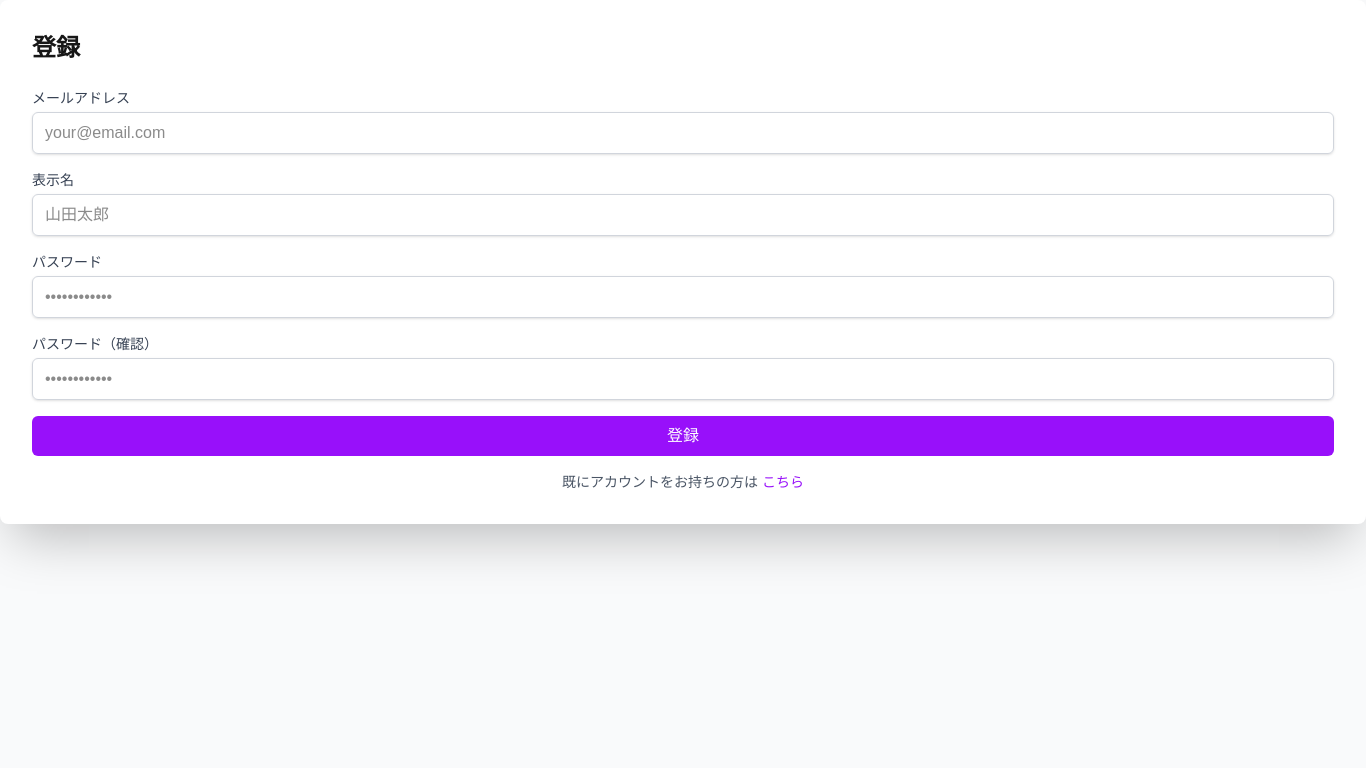
it: RegisterForm › バリデーションエラー › メールアドレスが空の場合エラーが表示される
Click the button "登録" at (683, 436), box [32, 416, 1334, 456]
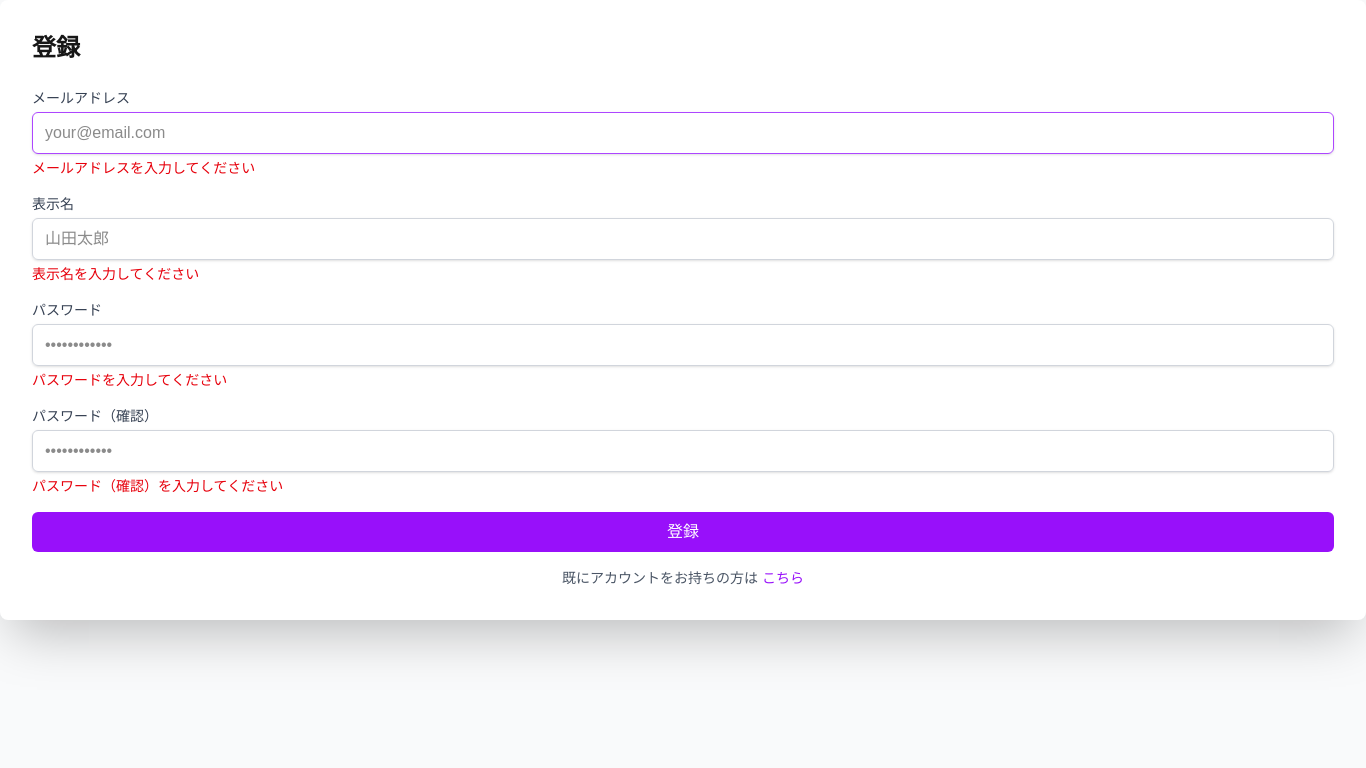
Result: the text "メールアドレスを入力してください" is shown at [32, 160, 255, 176]
